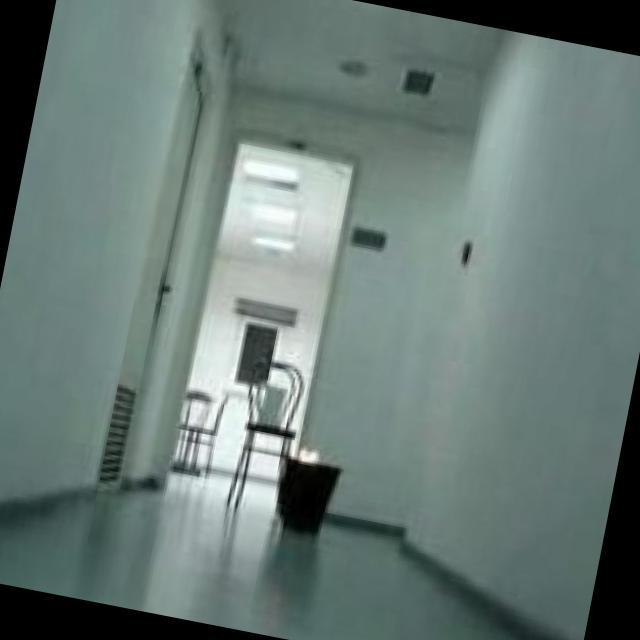Fire: (299, 448, 330, 471)
